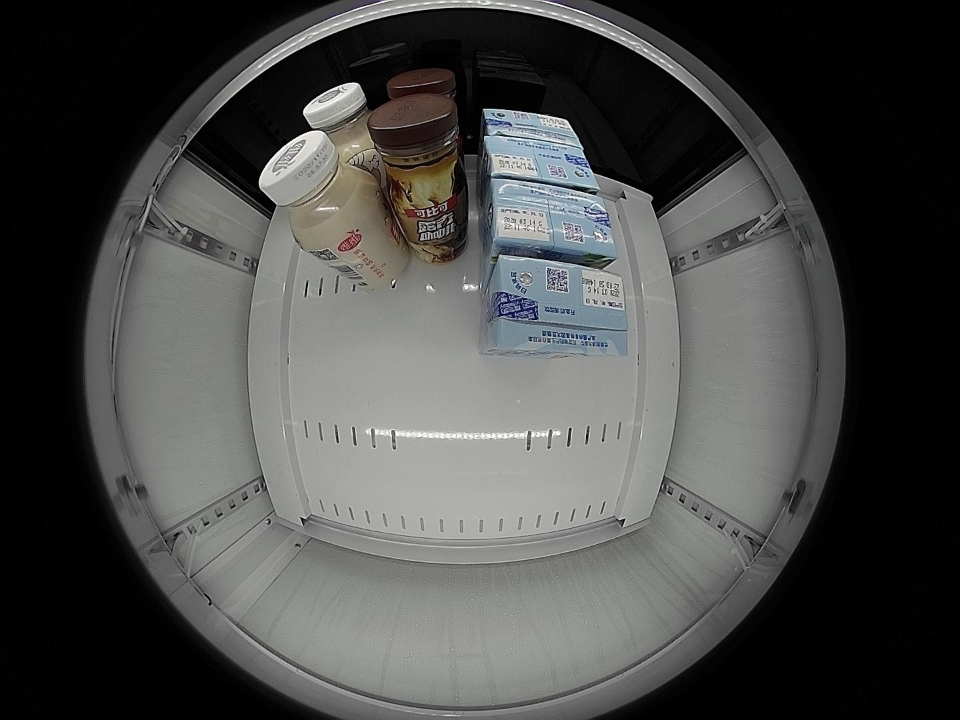lujikafei: (368, 94, 466, 205), (386, 67, 460, 109)
weitanaiditang: (485, 256, 628, 358), (485, 180, 618, 263), (482, 136, 598, 191), (480, 108, 583, 149)
weiweidounai: (259, 131, 376, 252), (303, 82, 380, 162)
